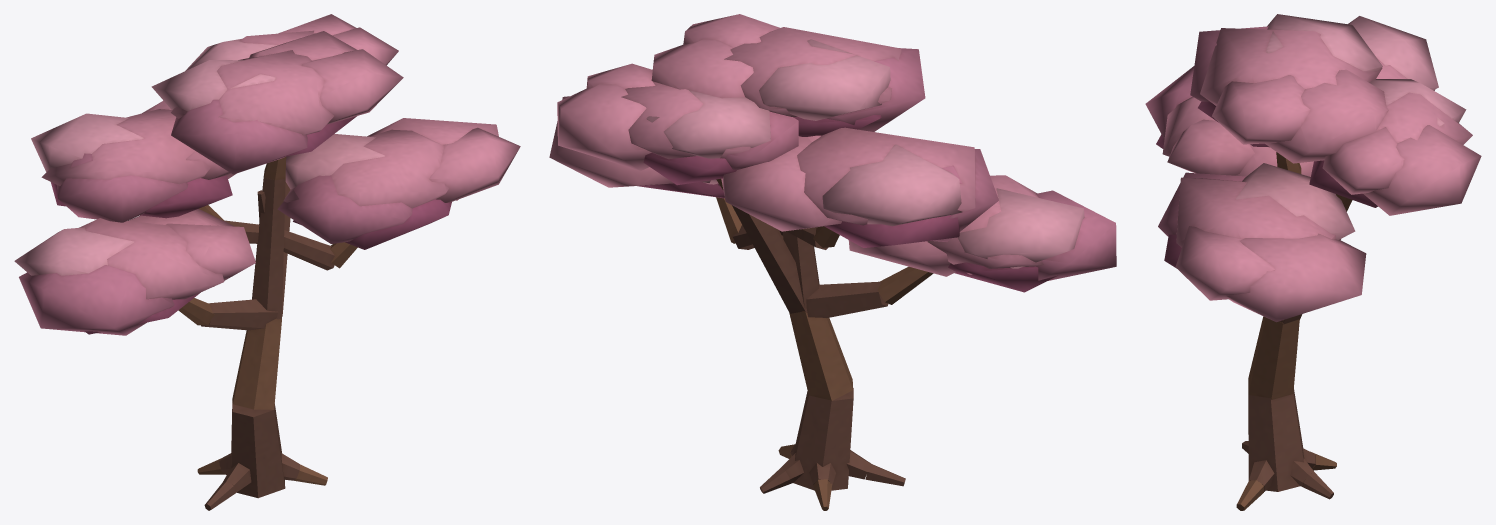
The model's file is Grand_Dojo_Blossom_LOD1.glb.
3 renders of one model, left to right at view 1: azimuth 30°, elevation 25°; view 2: azimuth 150°, elevation 25°; view 3: azimuth 270°, elevation 25°, orthographic. The views are drawn at different scales.
Visible parts, largest first — view 1: Grand Dojo Blossom LOD1; view 2: Grand Dojo Blossom LOD1; view 3: Grand Dojo Blossom LOD1.
Part boxes in pixels (box(x1,y1,x2,y2)): Grand Dojo Blossom LOD1: box(14, 14, 520, 510); Grand Dojo Blossom LOD1: box(549, 14, 1116, 510); Grand Dojo Blossom LOD1: box(1145, 14, 1481, 510).
Size of the model in its own units: 13.14 by 10.57 by 7.26.
Materials: 1 (1 with a texture image).
